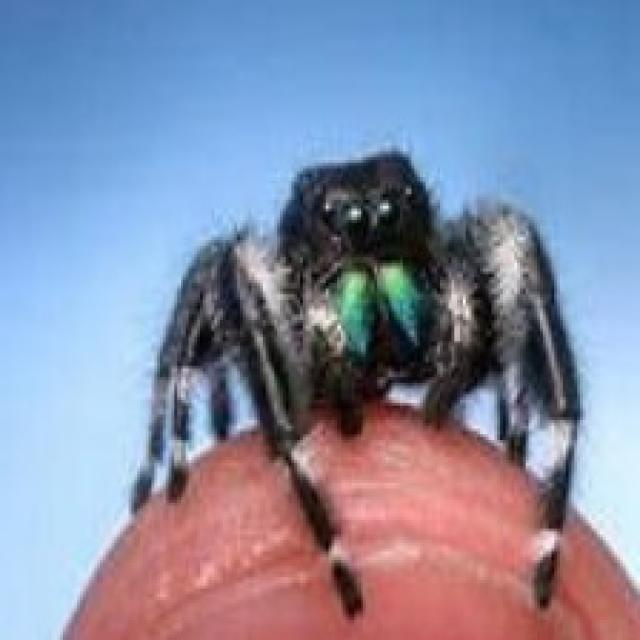Non venomous spider: (112, 32, 613, 638)
